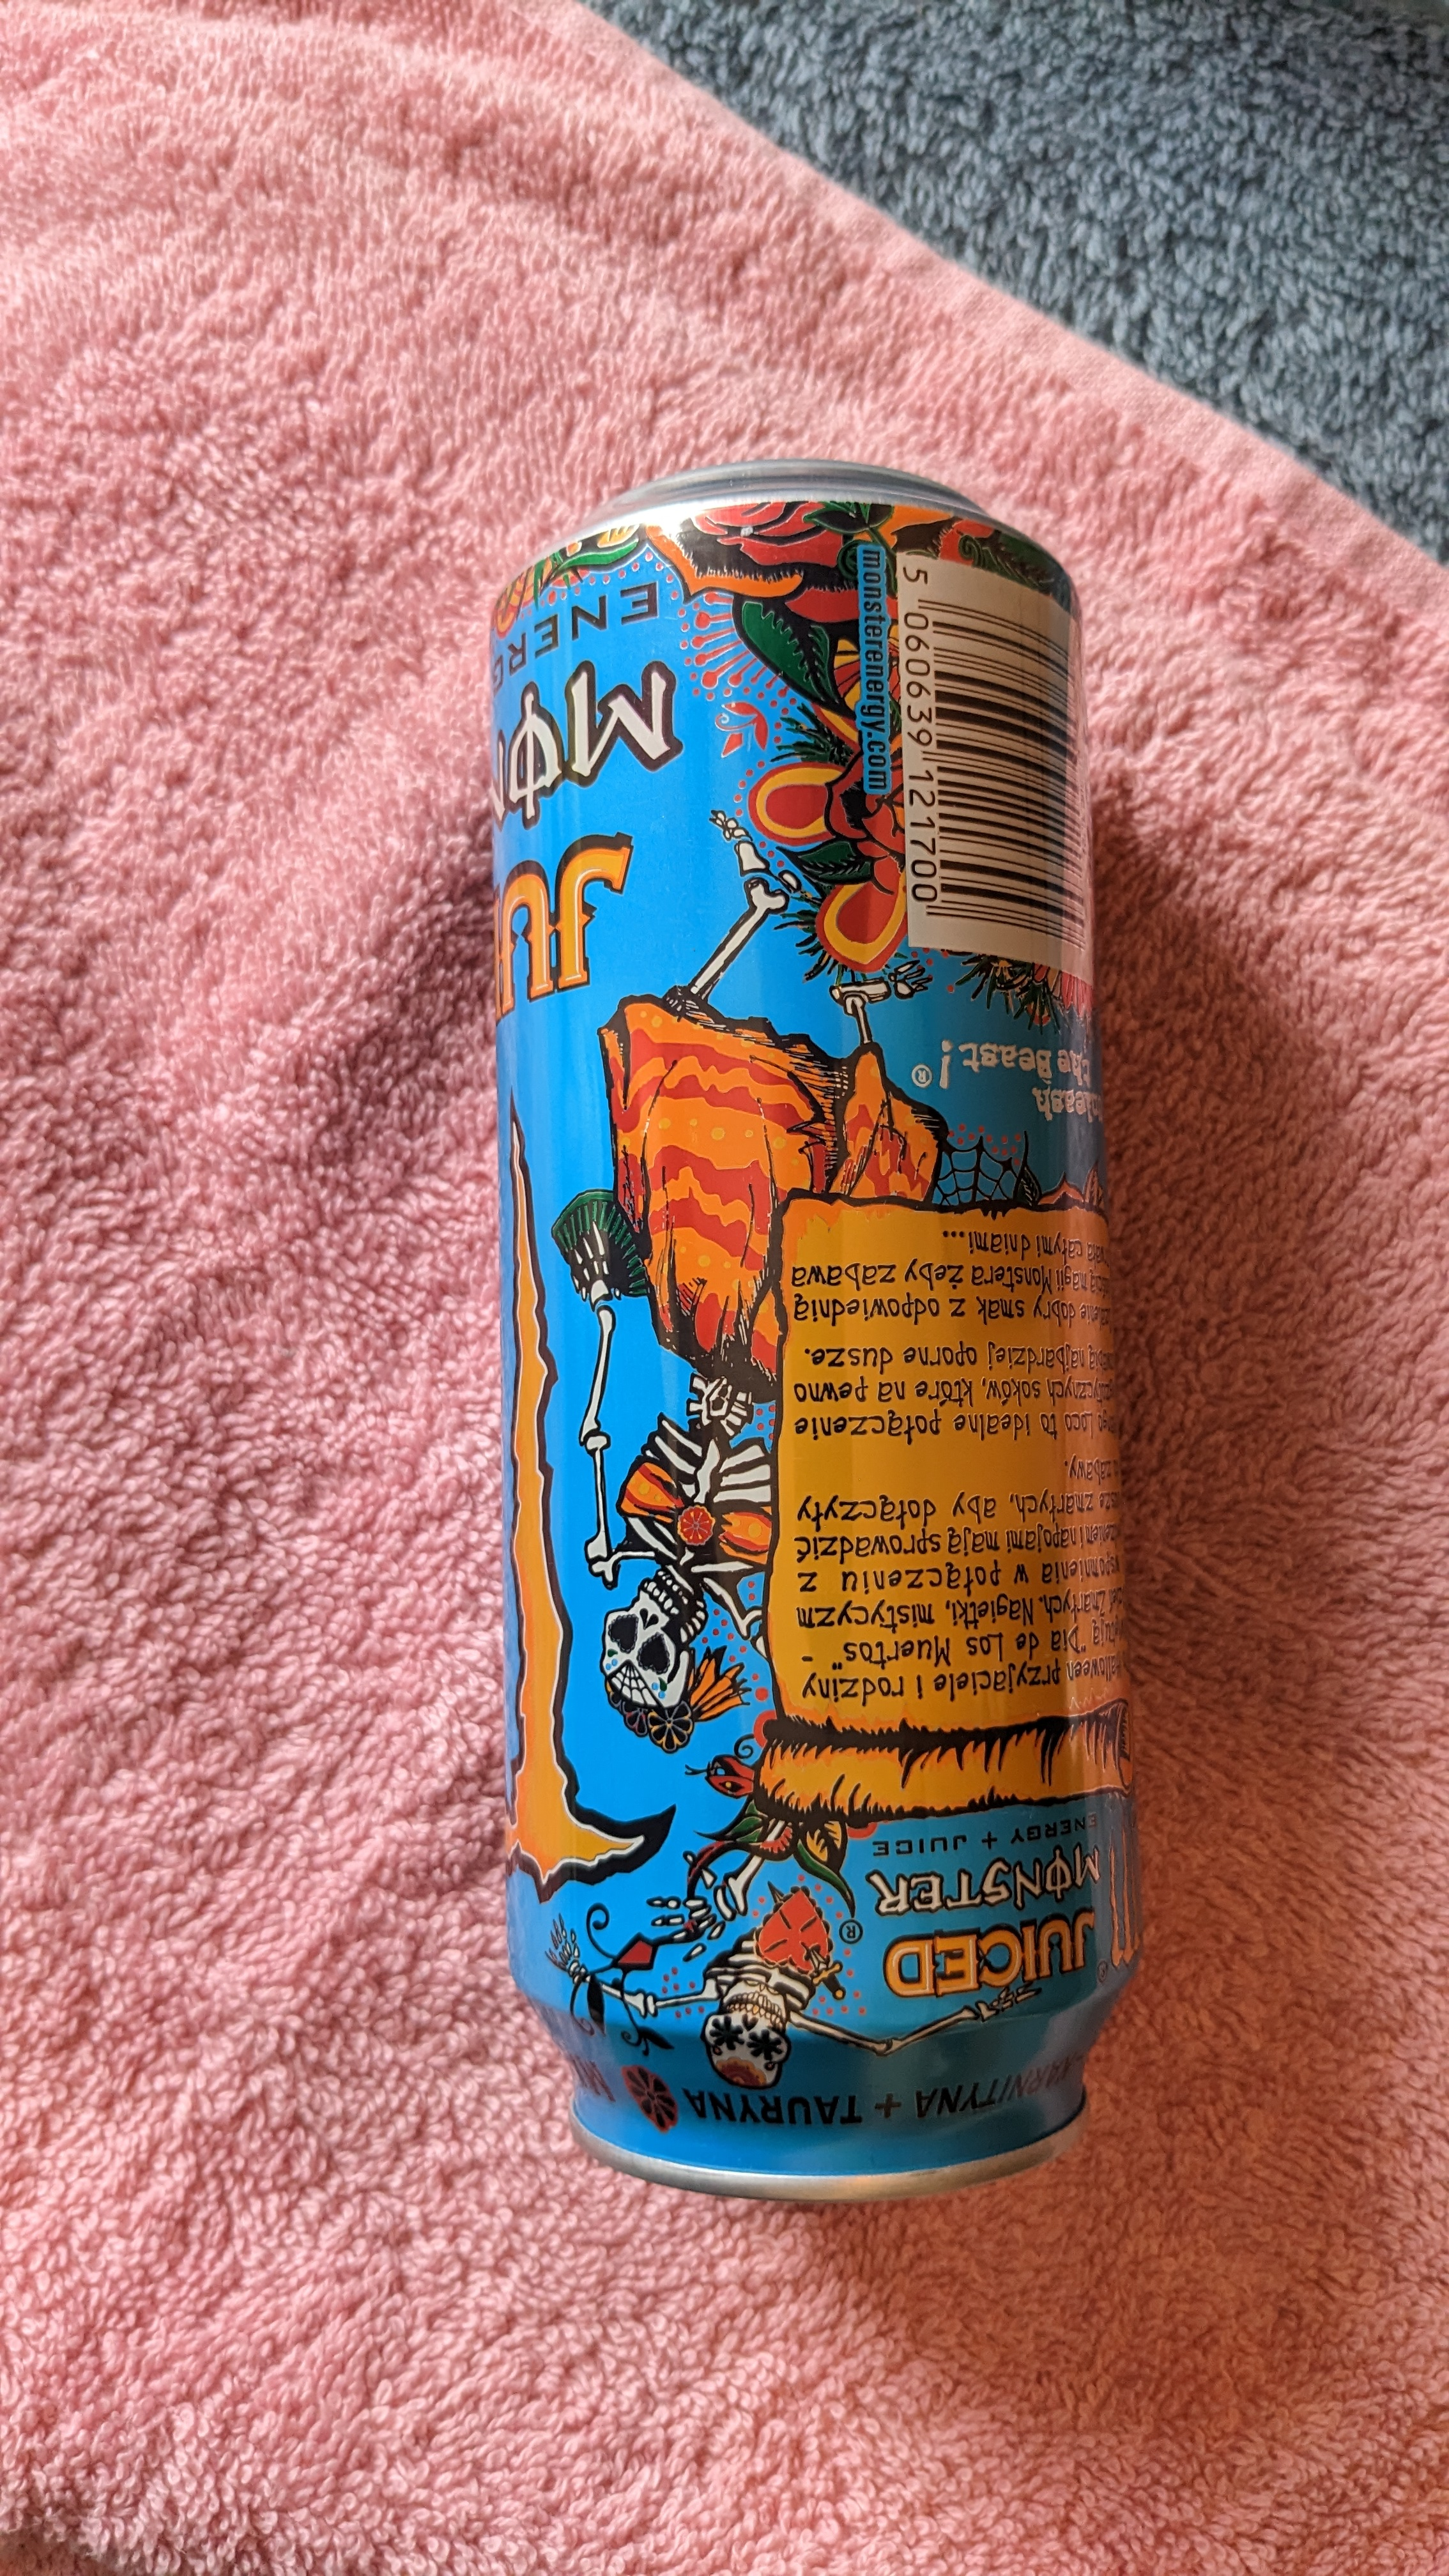monster: (451, 449, 1214, 2215)
